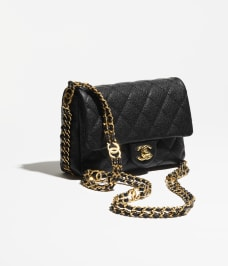channel: (55, 56, 211, 175), (81, 85, 127, 171), (94, 170, 149, 218), (131, 141, 163, 172)
